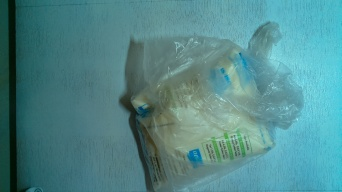m: (128, 42, 301, 190)
